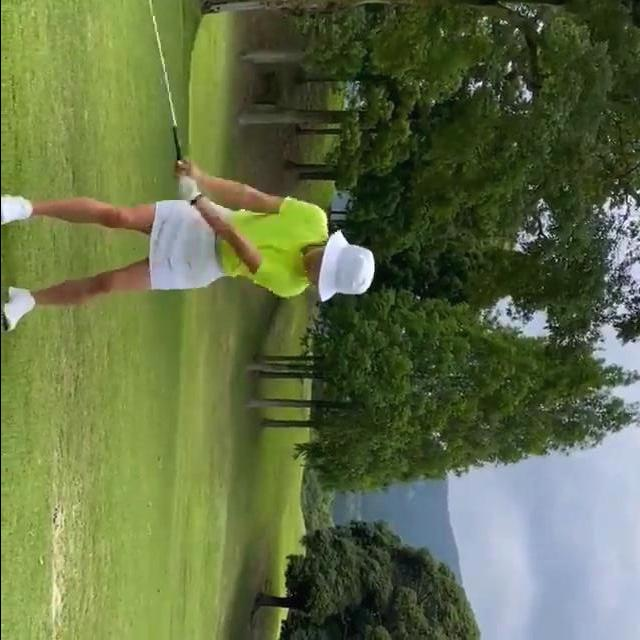ClubHandle: (148, 0, 185, 193)
